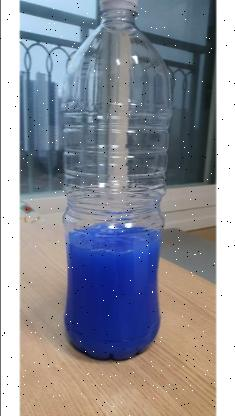Plastic Bottle: (62, 0, 171, 360)
